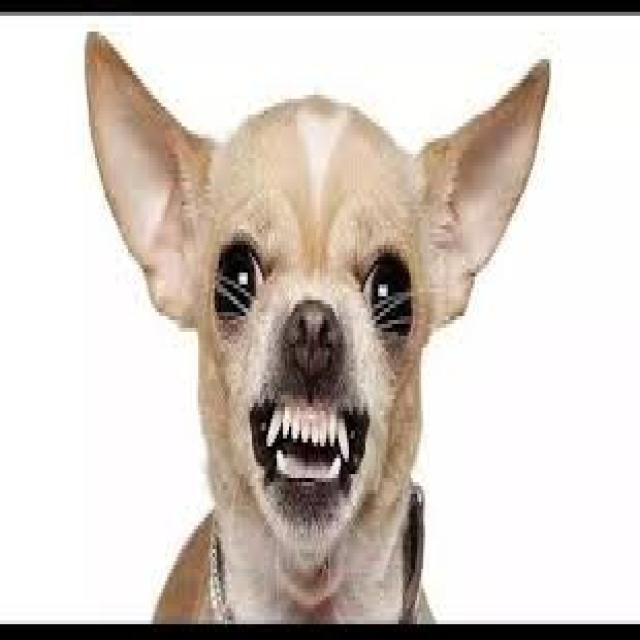dog: (87, 32, 553, 626)
